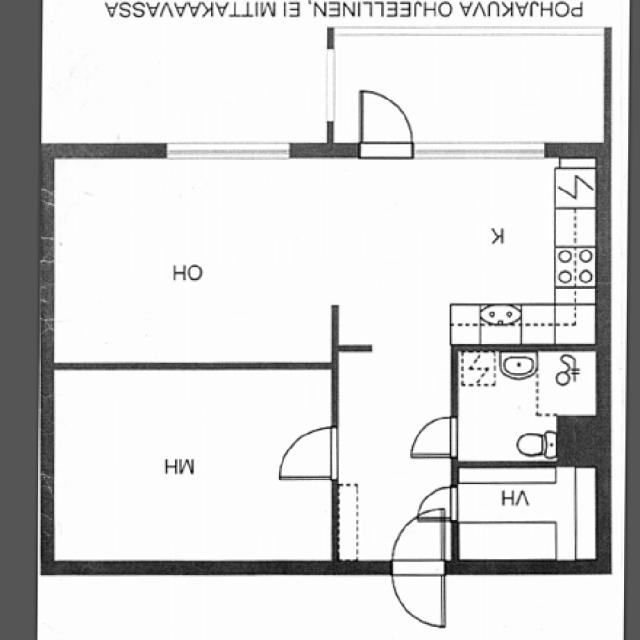door: (381, 512, 451, 628), (271, 418, 341, 482), (355, 84, 418, 150), (402, 408, 467, 462), (416, 484, 461, 520)
window: (413, 137, 550, 168), (160, 138, 293, 168), (318, 41, 343, 132)
zone: (51, 154, 327, 371), (48, 371, 336, 567), (343, 155, 595, 346), (452, 345, 598, 464), (450, 460, 604, 570)
